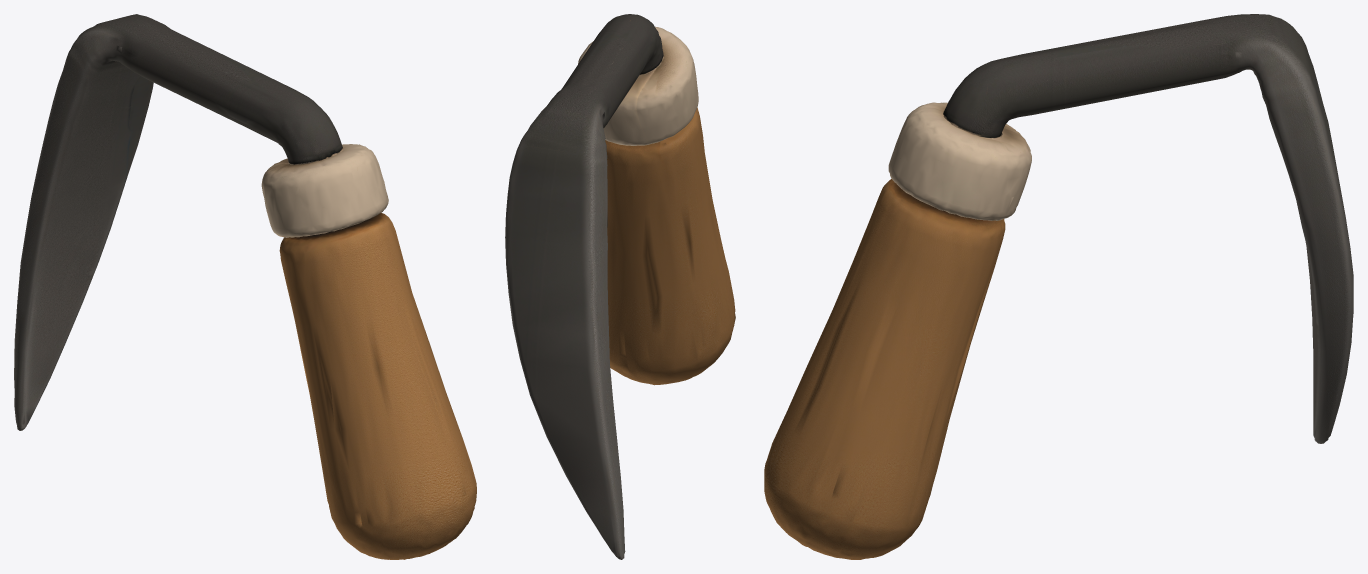
Rendered from handsickle_mem.fbx.
The picture shows the model from 3 angles, left to right: view 1: azimuth 30°, elevation 25°; view 2: azimuth 150°, elevation 25°; view 3: azimuth 270°, elevation 25°; orthographic projection. The views are drawn at different scales.
Parts seen in each view (by area): view 1: tripo_node_5c7951eb; view 2: tripo_node_5c7951eb; view 3: tripo_node_5c7951eb.
Boxes of the visible parts, box(x1,y1,x2,y2) form: tripo_node_5c7951eb: box(14, 14, 476, 559); tripo_node_5c7951eb: box(505, 14, 735, 559); tripo_node_5c7951eb: box(764, 14, 1353, 559).
Size of the model in its own units: 0.5254 by 0.9004 by 0.998.
